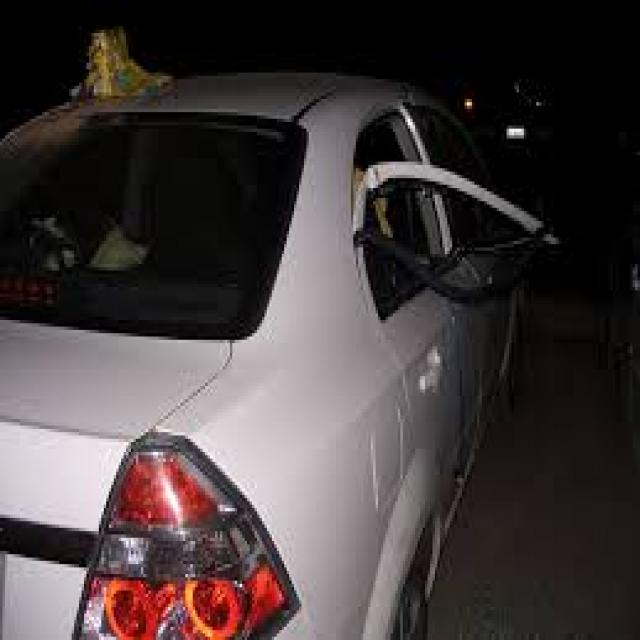minor: (326, 168, 560, 333)
